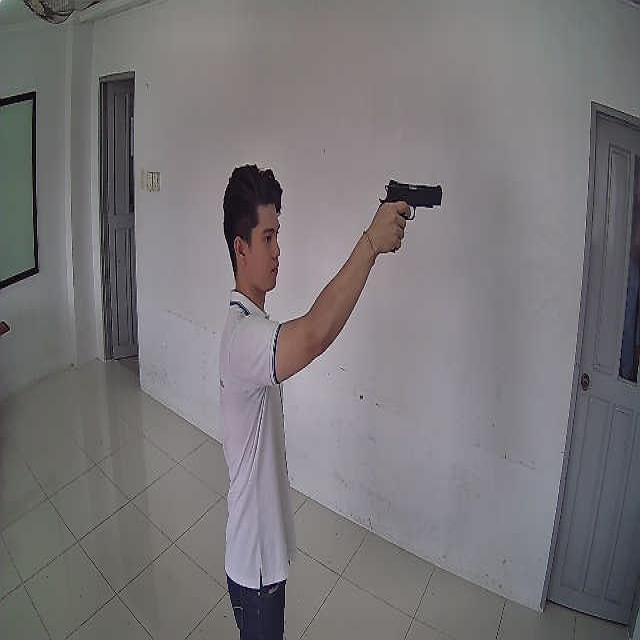pistol: (379, 179, 442, 221)
